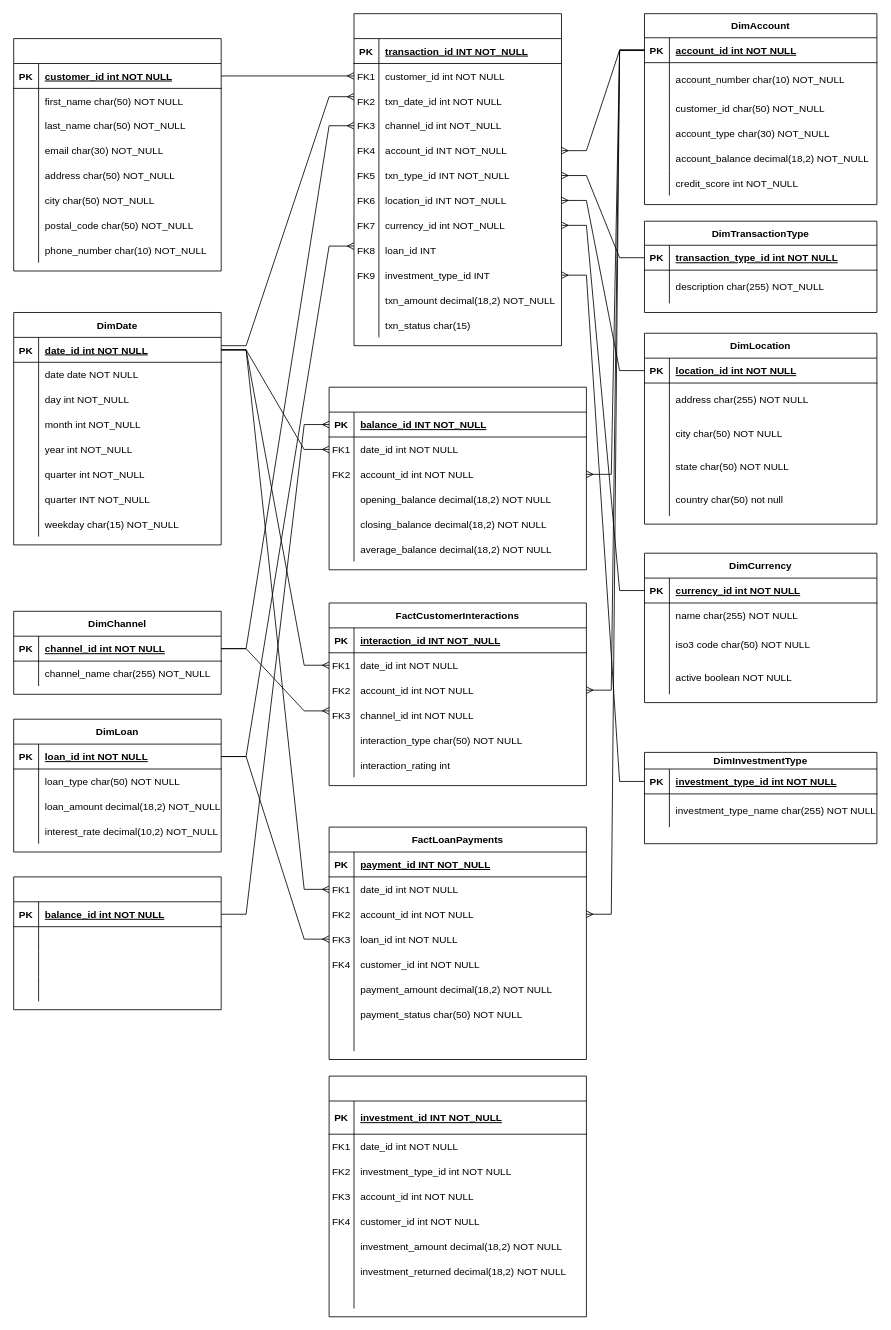
Some shapes in this 891 by 1330 pixel diagram are drawn without their labels. Here are the shapes that lost their labels. From the top down, the box of each, then its label:
(13, 38, 221, 271): DimCustomers
(353, 13, 561, 346): FactTransactions
(328, 386, 586, 570): FactDailyBalance
(13, 876, 221, 1010): DimBalance
(328, 1075, 586, 1317): FactInvestments
